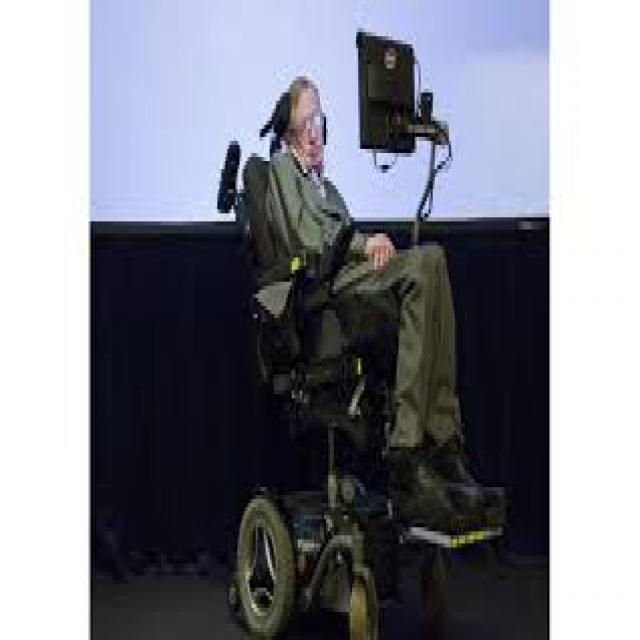wheelchairs: (205, 121, 497, 636)
